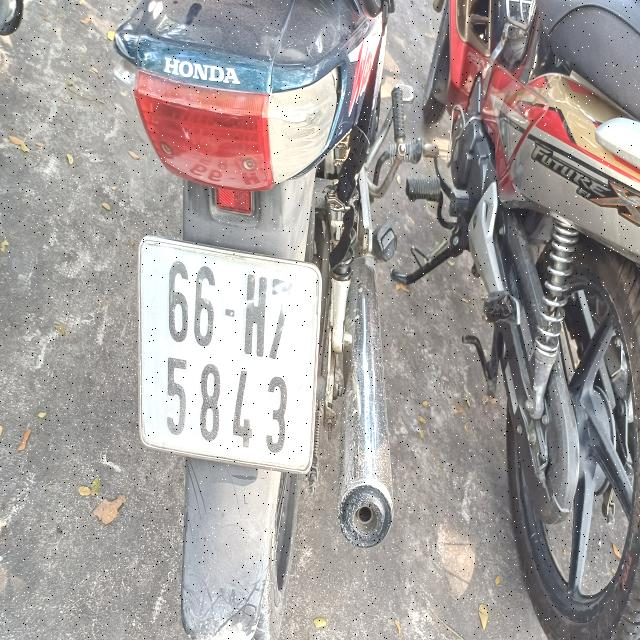3: (264, 370, 288, 456)
4: (229, 366, 255, 448)
6: (192, 260, 218, 350), (166, 258, 189, 345)
7: (271, 270, 294, 369), (162, 356, 188, 433)
8: (197, 362, 225, 444)
H: (243, 264, 269, 359)
